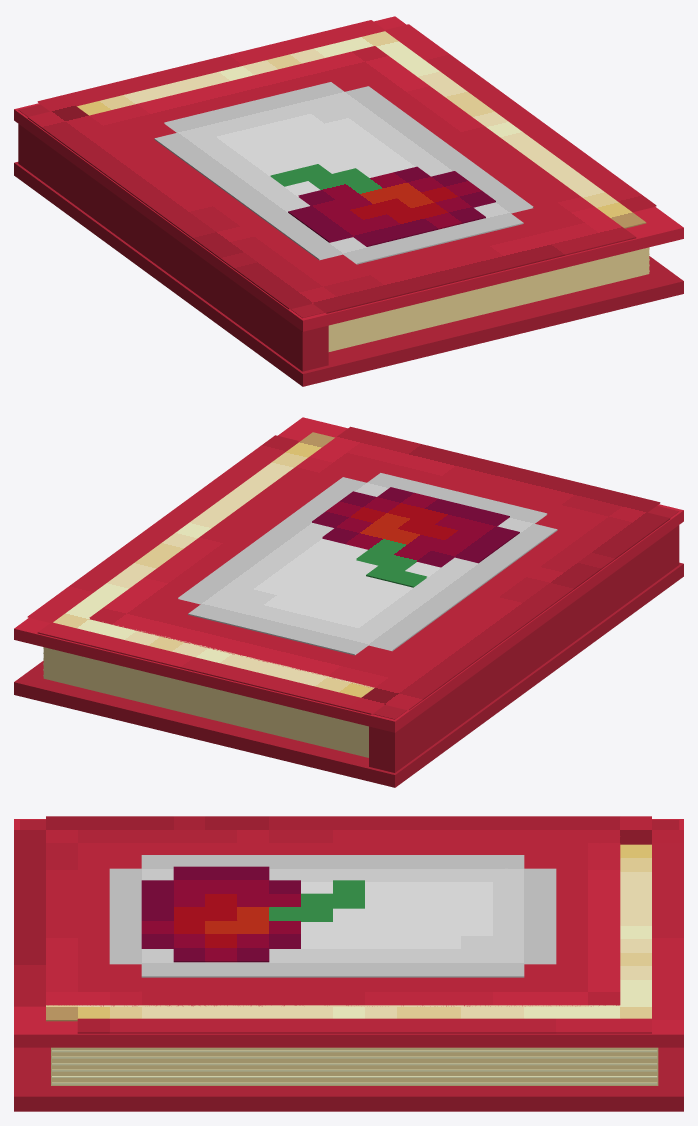
File: CMU3DBookHowToCookForFortySpacemanPrintedSmallCloud.glb
The picture shows the model from 3 angles, top to bottom: view 1: azimuth 30°, elevation 25°; view 2: azimuth 150°, elevation 25°; view 3: azimuth 270°, elevation 25°; orthographic projection. The views are drawn at different scales.
Visible parts, largest first — view 1: original tinted full cover construction, original wingette inset, rigid rear cover, red cloth hardback spine, original apple cover illustration, rigid front cover, original exposed paper artwork, cream bound page block; view 2: original tinted full cover construction, original wingette inset, rigid rear cover, red cloth hardback spine, original apple cover illustration, cream bound page block, rigid front cover, original exposed paper artwork; view 3: original tinted full cover construction, original wingette inset, rigid rear cover, cream bound page block, original apple cover illustration, original exposed paper artwork, rigid front cover, individual visible page edge 0, individual visible page edge 2, individual visible page edge 3, individual visible page edge 4, individual visible page edge 5 (+2 smaller).
Boxes of the visible parts, x1=… form: original tinted full cover construction: x1=27, y1=20, x2=656, y2=313; original wingette inset: x1=154, y1=82, x2=533, y2=264; rigid rear cover: x1=14, y1=162, x2=683, y2=386; red cloth hardback spine: x1=18, y1=104, x2=328, y2=371; original apple cover illustration: x1=270, y1=164, x2=495, y2=246; rigid front cover: x1=14, y1=16, x2=683, y2=331; original exposed paper artwork: x1=77, y1=31, x2=646, y2=228; cream bound page block: x1=328, y1=247, x2=649, y2=351; original tinted full cover construction: x1=27, y1=426, x2=670, y2=714; original wingette inset: x1=178, y1=473, x2=557, y2=655; rigid rear cover: x1=14, y1=562, x2=683, y2=787; red cloth hardback spine: x1=369, y1=506, x2=679, y2=772; original apple cover illustration: x1=312, y1=487, x2=519, y2=587; cream bound page block: x1=43, y1=647, x2=368, y2=757; rigid front cover: x1=14, y1=417, x2=683, y2=732; original exposed paper artwork: x1=53, y1=432, x2=374, y2=697; original tinted full cover construction: x1=14, y1=816, x2=683, y2=1033; original wingette inset: x1=109, y1=855, x2=556, y2=977; rigid rear cover: x1=14, y1=1047, x2=683, y2=1111; cream bound page block: x1=51, y1=1047, x2=658, y2=1085; original apple cover illustration: x1=141, y1=866, x2=364, y2=962; original exposed paper artwork: x1=46, y1=844, x2=651, y2=1021; rigid front cover: x1=14, y1=819, x2=683, y2=1047; individual visible page edge 0: x1=52, y1=1082, x2=657, y2=1084; individual visible page edge 2: x1=52, y1=1069, x2=657, y2=1071; individual visible page edge 3: x1=52, y1=1063, x2=657, y2=1065; individual visible page edge 4: x1=52, y1=1056, x2=657, y2=1058; individual visible page edge 5: x1=52, y1=1050, x2=657, y2=1052.
Size of the model in its own units: 0.5 by 0.0897 by 0.6562.
Materials: 8 (4 with a texture image).
